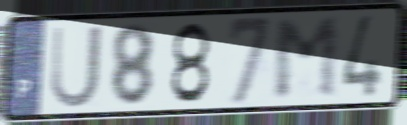4: (339, 12, 386, 102)
7: (226, 13, 275, 109)
8: (108, 20, 157, 110), (169, 21, 212, 106)
M: (272, 14, 341, 104)
U: (48, 23, 104, 111)
